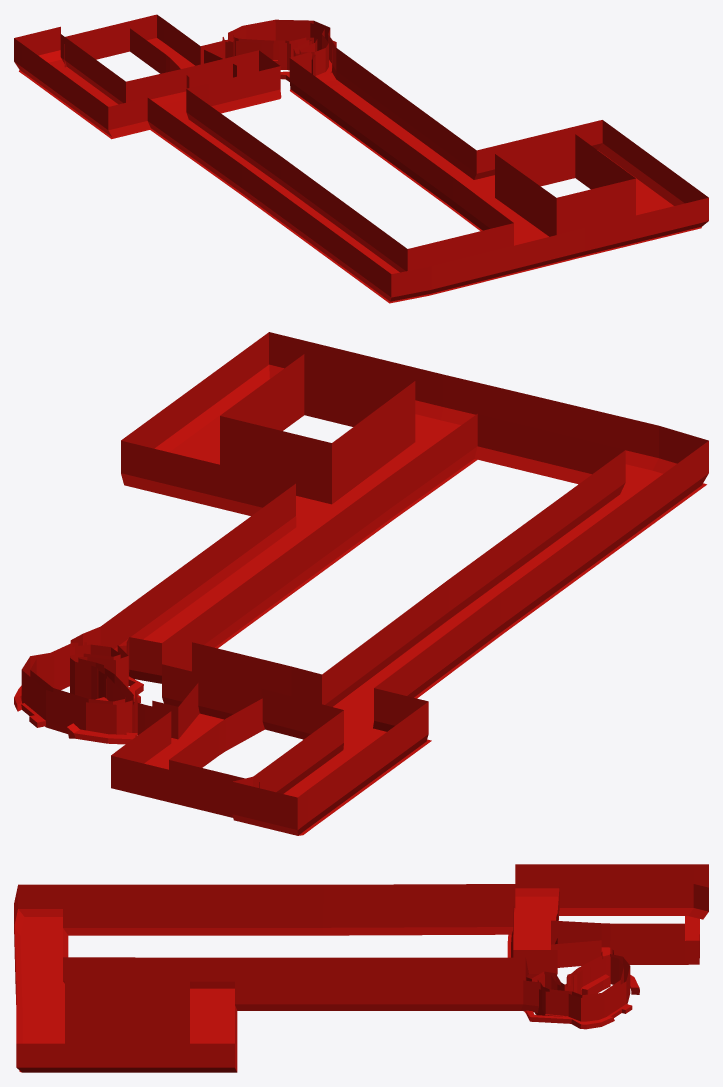
Rendered from map2.obj.
The picture shows the model from 3 angles, top to bottom: view 1: azimuth 30°, elevation 25°; view 2: azimuth 150°, elevation 25°; view 3: azimuth 270°, elevation 25°; orthographic projection. The views are drawn at different scales.
Parts seen in each view (by area): view 1: Plane.004_Plane.002; view 2: Plane.004_Plane.002; view 3: Plane.004_Plane.002.
Part boxes in pixels (x1=…): Plane.004_Plane.002: x1=14, y1=14, x2=708, y2=303; Plane.004_Plane.002: x1=14, y1=332, x2=708, y2=835; Plane.004_Plane.002: x1=14, y1=864, x2=708, y2=1072.
Size of the model in its own units: 2151 by 273 by 3523.
